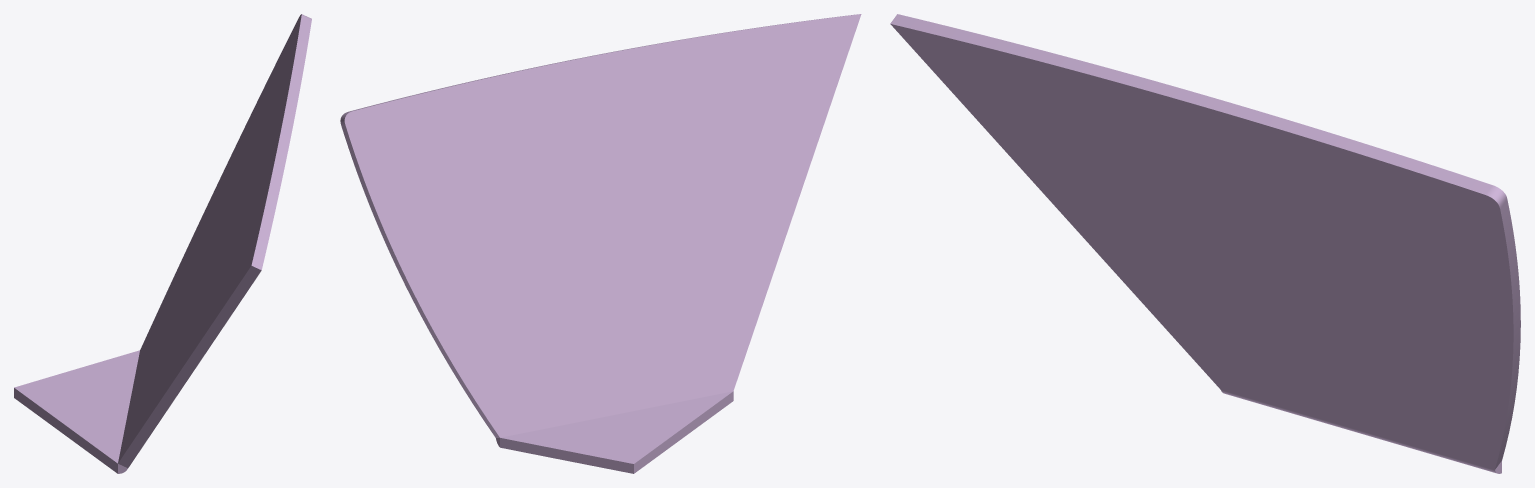
The model's file is OUTFITTING_INTERIOR___ugly corner_ options__small corner box.glb.
3 views of the same model, side by side, from view 1: azimuth 30°, elevation 25°; view 2: azimuth 150°, elevation 25°; view 3: azimuth 270°, elevation 25° (orthographic). The views are drawn at different scales.
Visible parts, largest first — view 1: small corner box; view 2: small corner box; view 3: small corner box.
Boxes of the visible parts, left/top/right/bottom form: small corner box: left=14, top=14, right=311, bottom=473; small corner box: left=340, top=14, right=861, bottom=473; small corner box: left=890, top=14, right=1520, bottom=473.
Size of the model in its own units: 0.3877 by 0.3885 by 0.5682.
